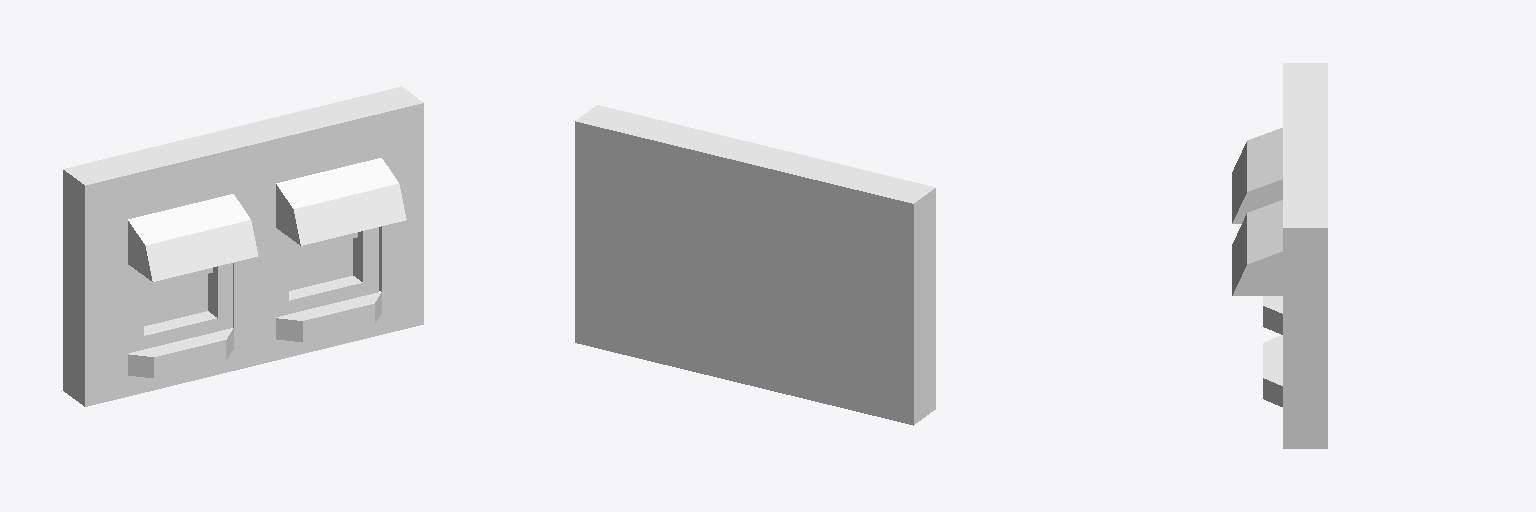
The model's file is Twin_window_tents.obj.
3 views of the same model, side by side, from view 1: azimuth 30°, elevation 25°; view 2: azimuth 150°, elevation 25°; view 3: azimuth 270°, elevation 25° (orthographic).
Parts seen in each view (by area): view 1: building-window-awnings; view 2: building-window-awnings; view 3: building-window-awnings.
Boxes of the visible parts, <box> form: building-window-awnings: <box>63,86,423,406</box>; building-window-awnings: <box>575,105,935,425</box>; building-window-awnings: <box>1232,63,1327,448</box>.
Size of the model in its own units: 1 by 0.625 by 0.2431.